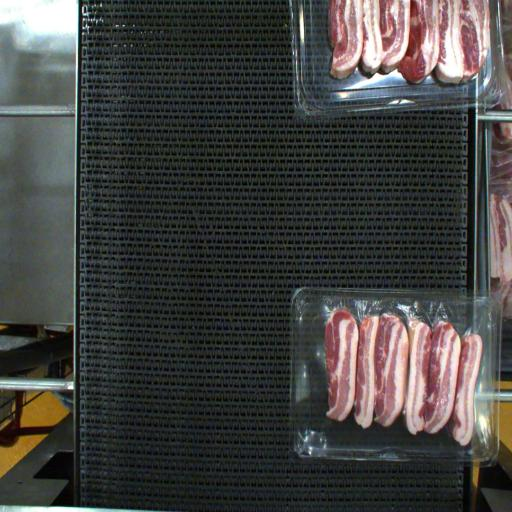unsealed: (302, 292, 494, 454)
